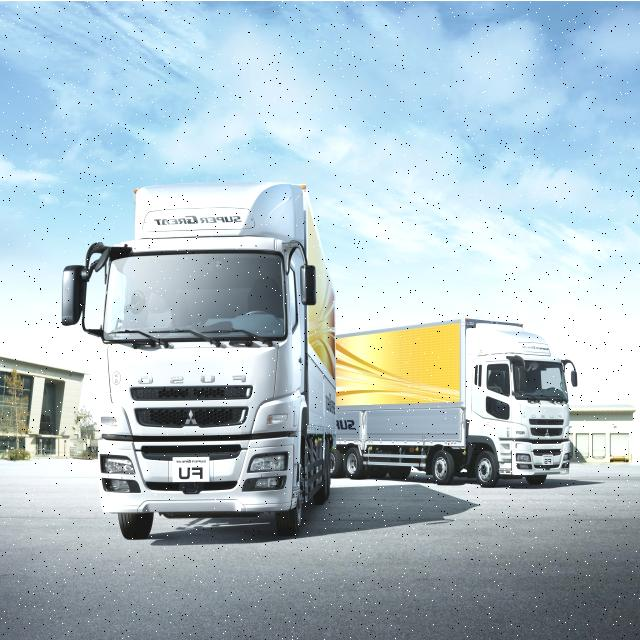truck: (62, 177, 334, 530), (332, 317, 578, 485)
